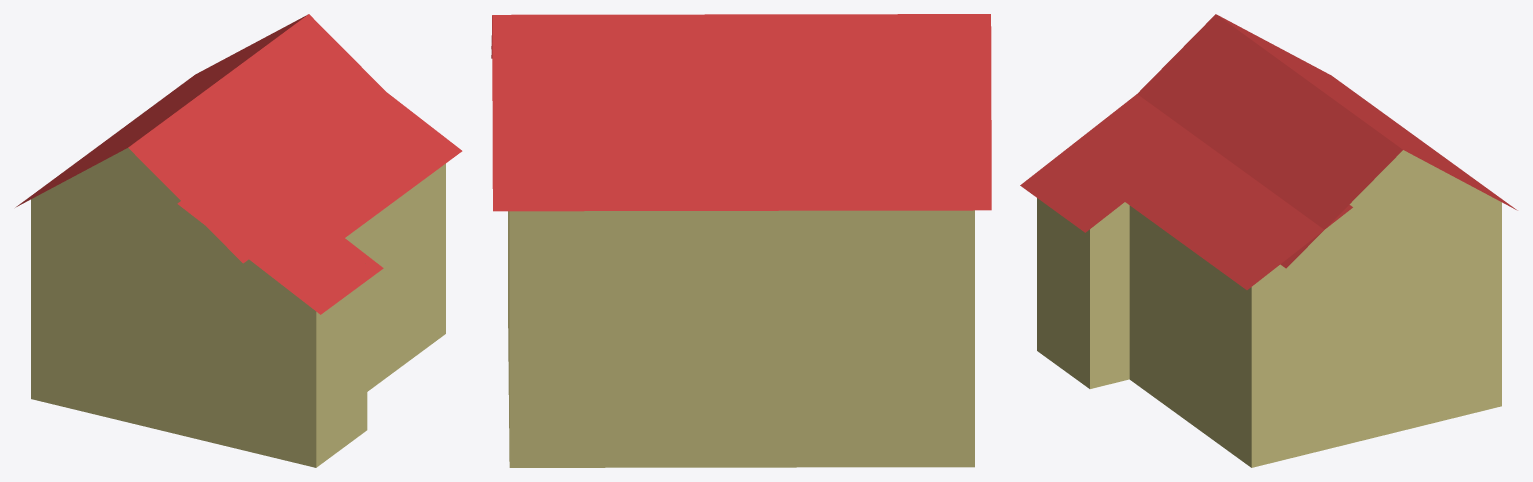
3 renders of one model, left to right at view 1: azimuth 30°, elevation 25°; view 2: azimuth 150°, elevation 25°; view 3: azimuth 270°, elevation 25°, orthographic. The views are drawn at different scales.
Bounding box in the file's own units: 19.26 × 20.02 × 12.69.
